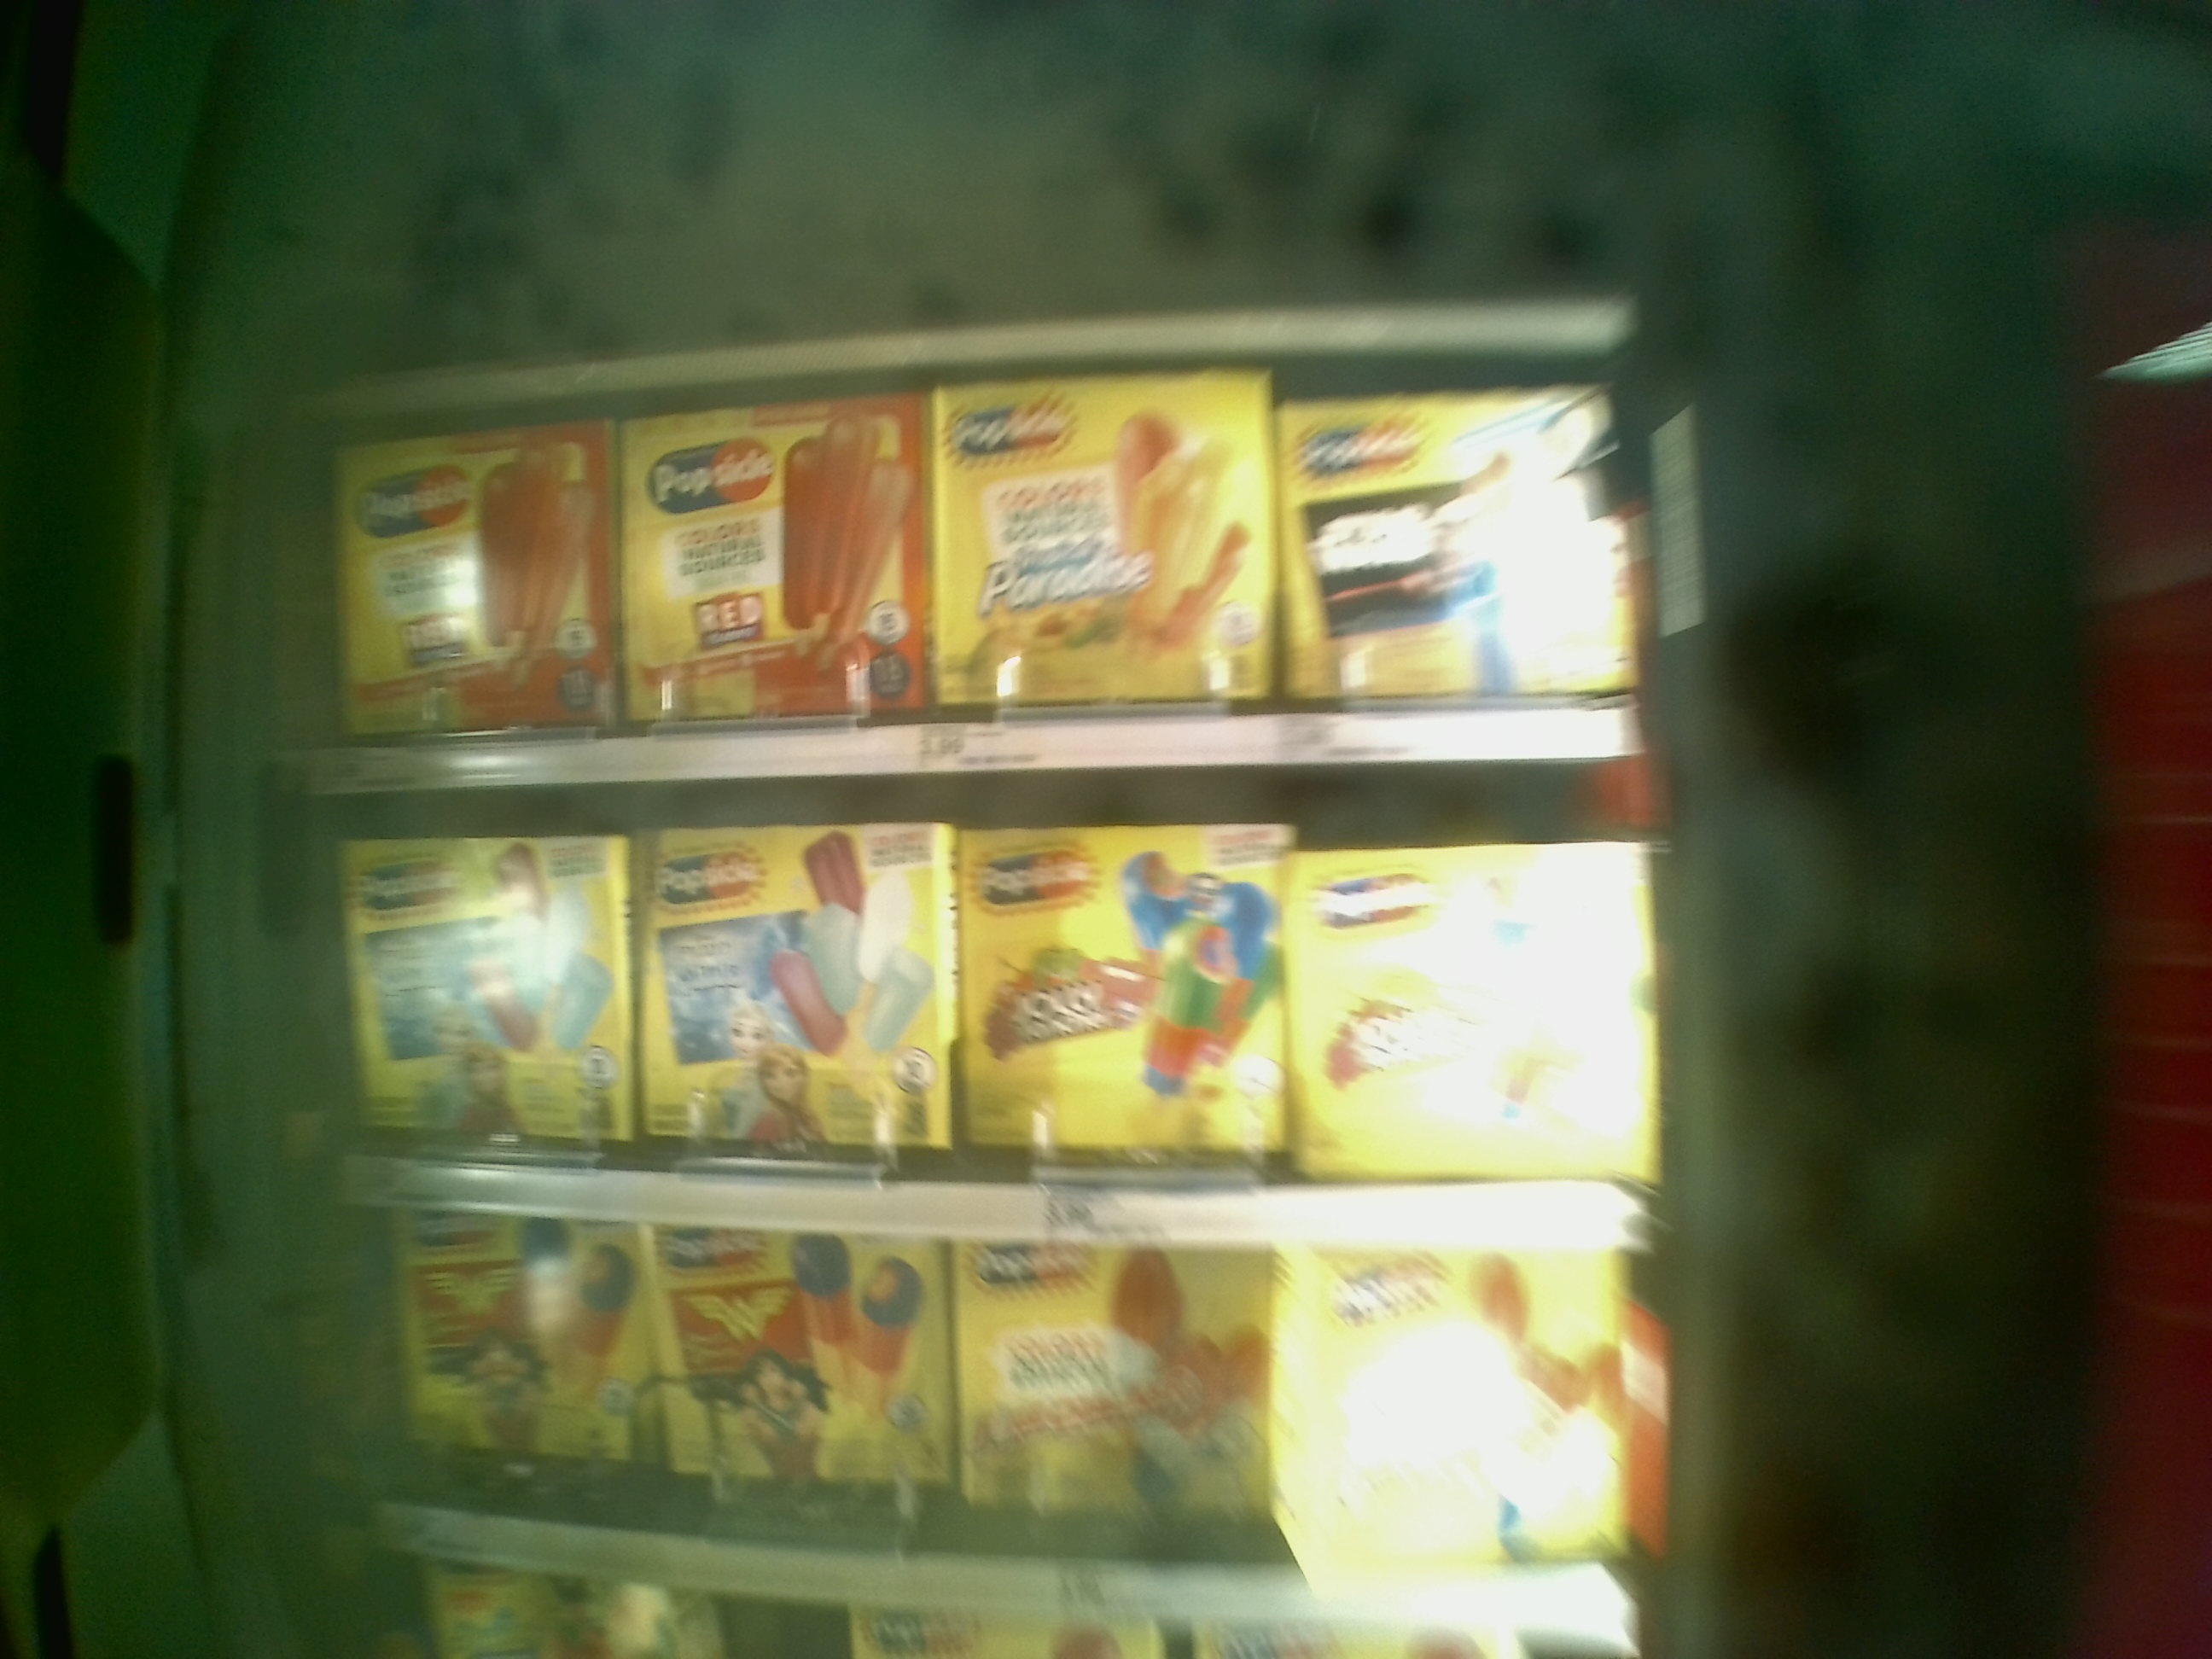frozen-food-shelf: (275, 798, 1681, 1248)
